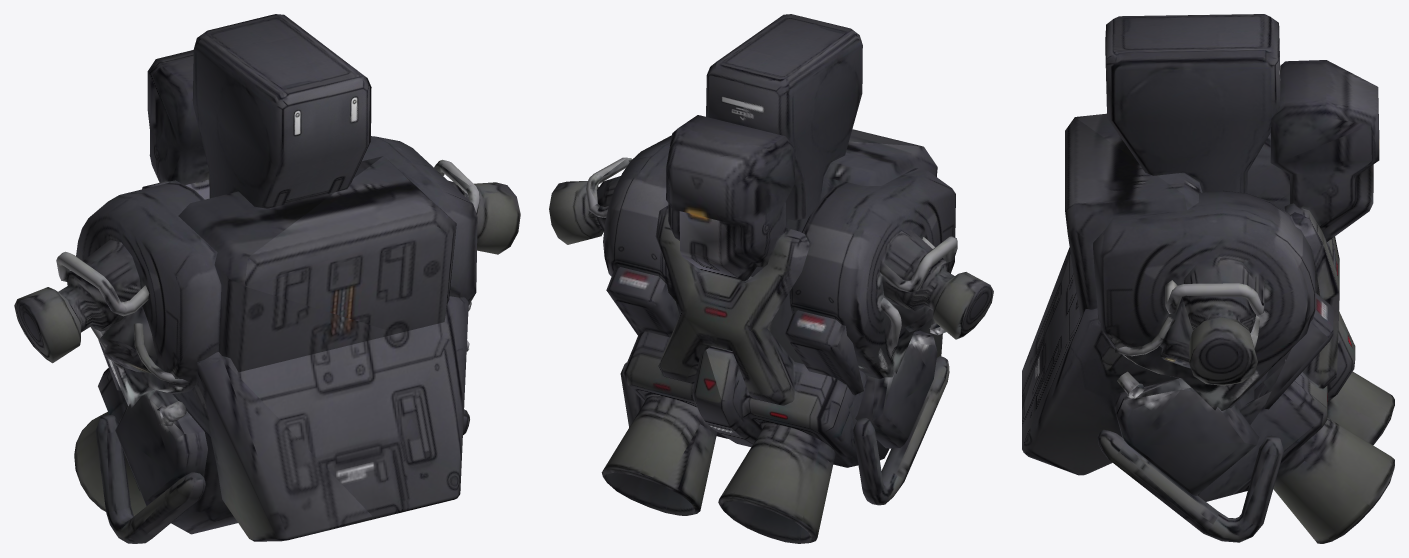
The model's file is b_std.glb.
3 views of the same model, side by side, from view 1: azimuth 30°, elevation 25°; view 2: azimuth 150°, elevation 25°; view 3: azimuth 270°, elevation 25° (orthographic). The views are drawn at different scales.
Visible parts, largest first — view 1: b_std; view 2: b_std; view 3: b_std.
Boxes of the visible parts, left/top/right/bottom form: b_std: left=14, top=14, right=520, bottom=543; b_std: left=549, top=14, right=993, bottom=543; b_std: left=1022, top=14, right=1394, bottom=543.
Bounding box in the file's own units: 2.77 × 2.74 × 1.96.
1 material, 1 textured.
